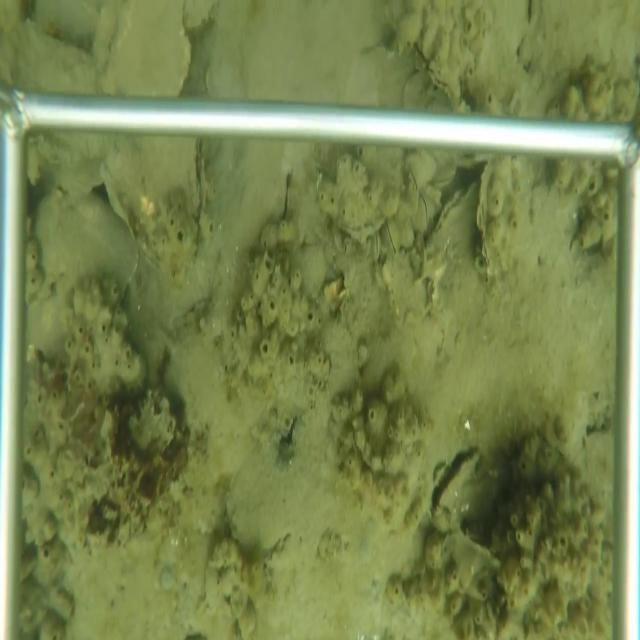Oyster-Closed: (97, 134, 212, 292), (405, 28, 472, 111), (429, 176, 479, 241), (476, 164, 495, 293), (415, 188, 432, 233), (385, 221, 402, 260), (372, 230, 382, 265), (409, 170, 419, 196)
Oyster-Indeterminate: (99, 2, 194, 97), (5, 19, 102, 97), (360, 144, 409, 220)
Oyster-Open: (430, 446, 481, 529), (278, 165, 298, 223)
